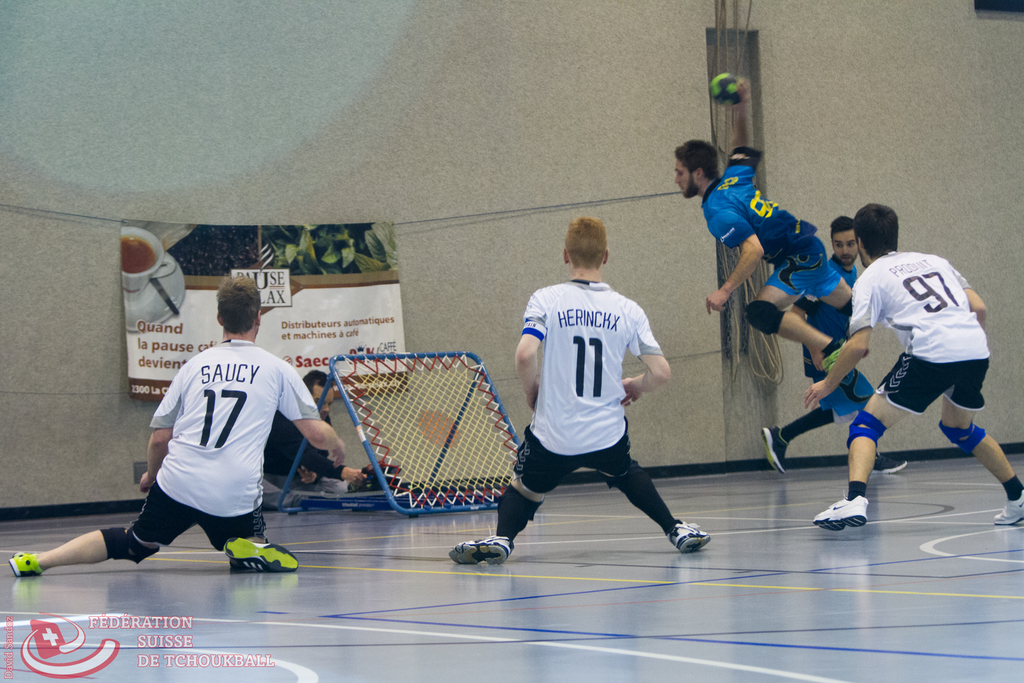Person: (677, 177, 851, 371)
